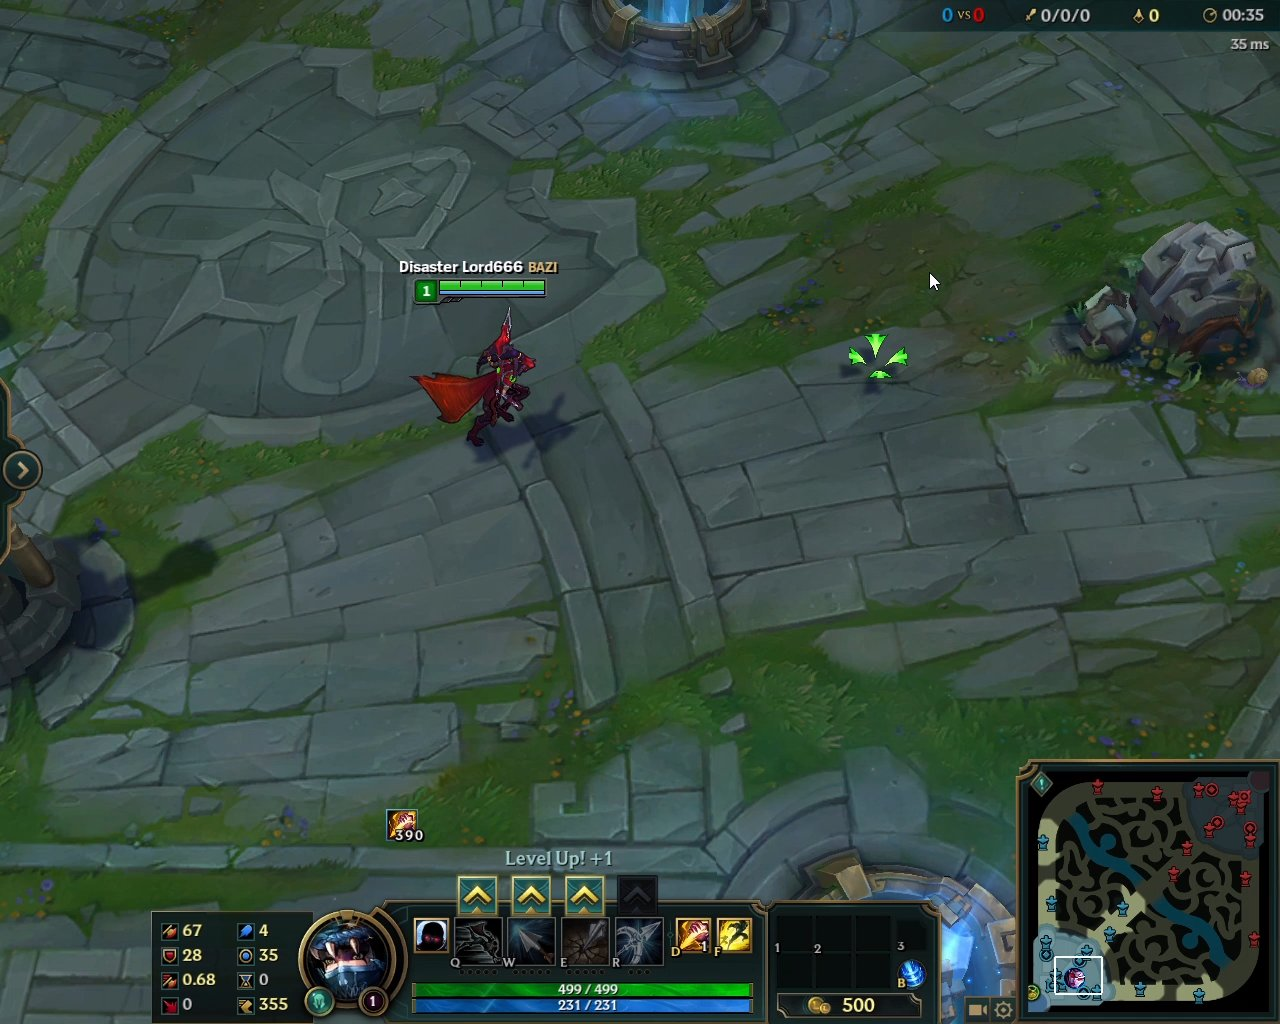Vayne: (417, 305, 544, 448)
